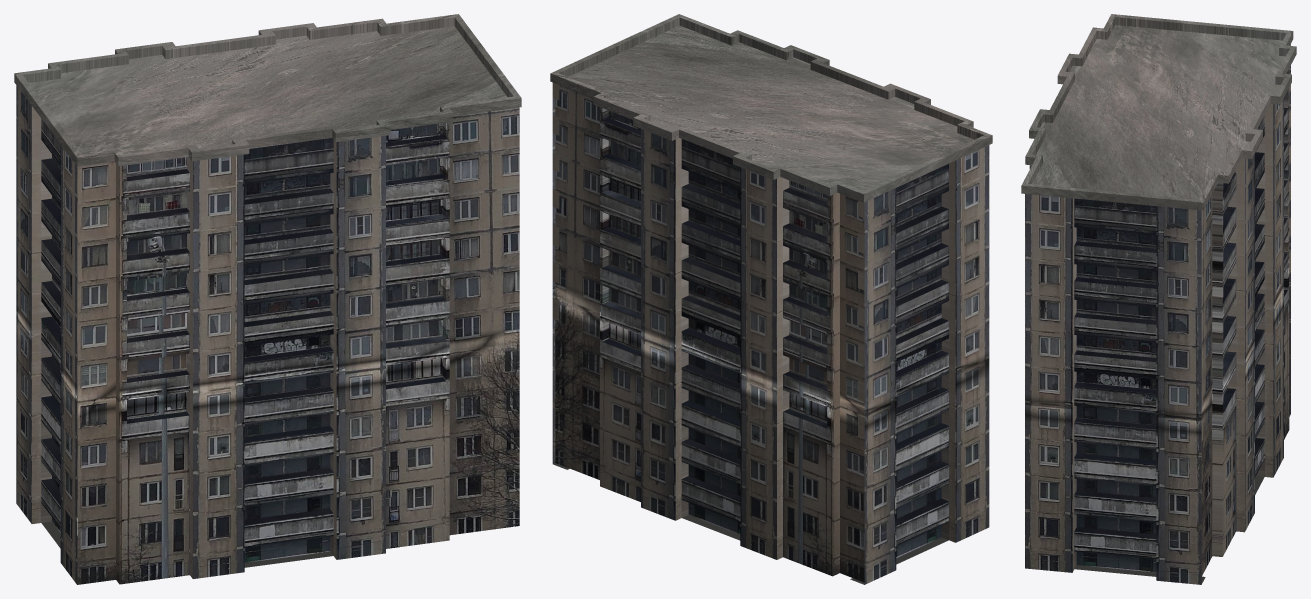
3 views of the same model, side by side, from view 1: azimuth 30°, elevation 25°; view 2: azimuth 150°, elevation 25°; view 3: azimuth 270°, elevation 25° (orthographic). The views are drawn at different scales.
Visible parts, largest first — view 1: Cube.018; view 2: Cube.018; view 3: Cube.018.
Part boxes in pixels (x1,y1,x2,y2): Cube.018: (14, 14, 521, 584); Cube.018: (550, 14, 992, 584); Cube.018: (1021, 14, 1296, 584).
Bounding box in the file's own units: 2.12 × 2.01 × 1.31.
Materials: 2 (2 with a texture image).
